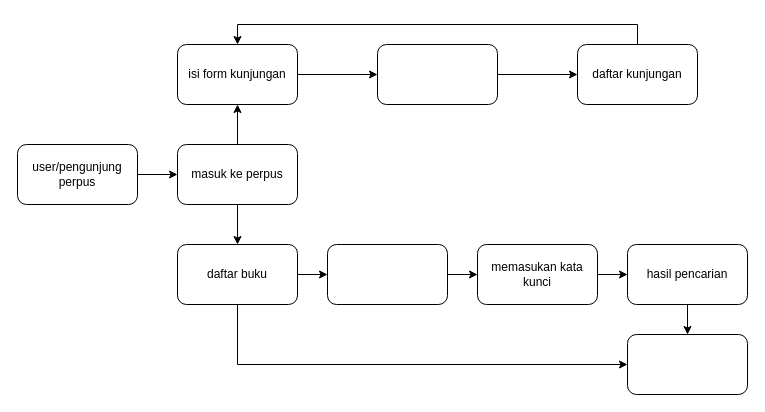
The diagram is 765 pixels wide and 412 high, and some of its shapes have lost their labels. Each missing label, with the box of its shape:
detail buku: (626, 334, 748, 394)
kirim: (376, 44, 498, 104)
pencarian: (326, 244, 448, 304)
